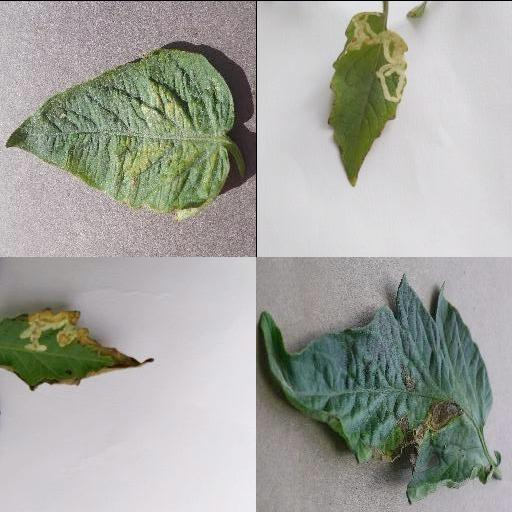Early Blight: (258, 272, 494, 502)
Leaf Miner: (325, 10, 411, 184), (0, 307, 140, 391)
Spider Mites: (5, 46, 237, 217)
